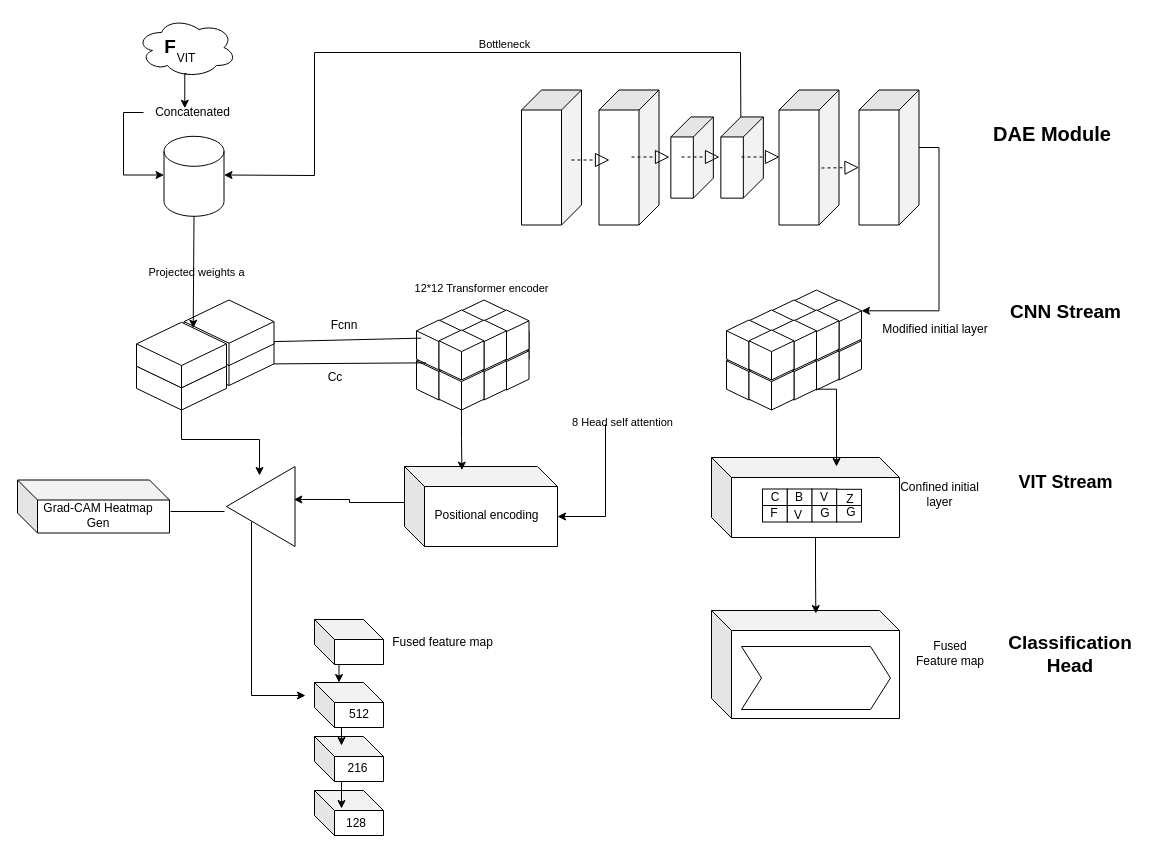
Some shapes in this 1151 by 856 pixel diagram are drawn without their labels. The shapes that lost their labels are listed below. From the top down, each one's centre as x and y in pixels, then its label:
At pixel 193 175: "Fusion Gate".
At pixel 260 506: "One of".
At pixel 815 678: "Gradine Initial L".
